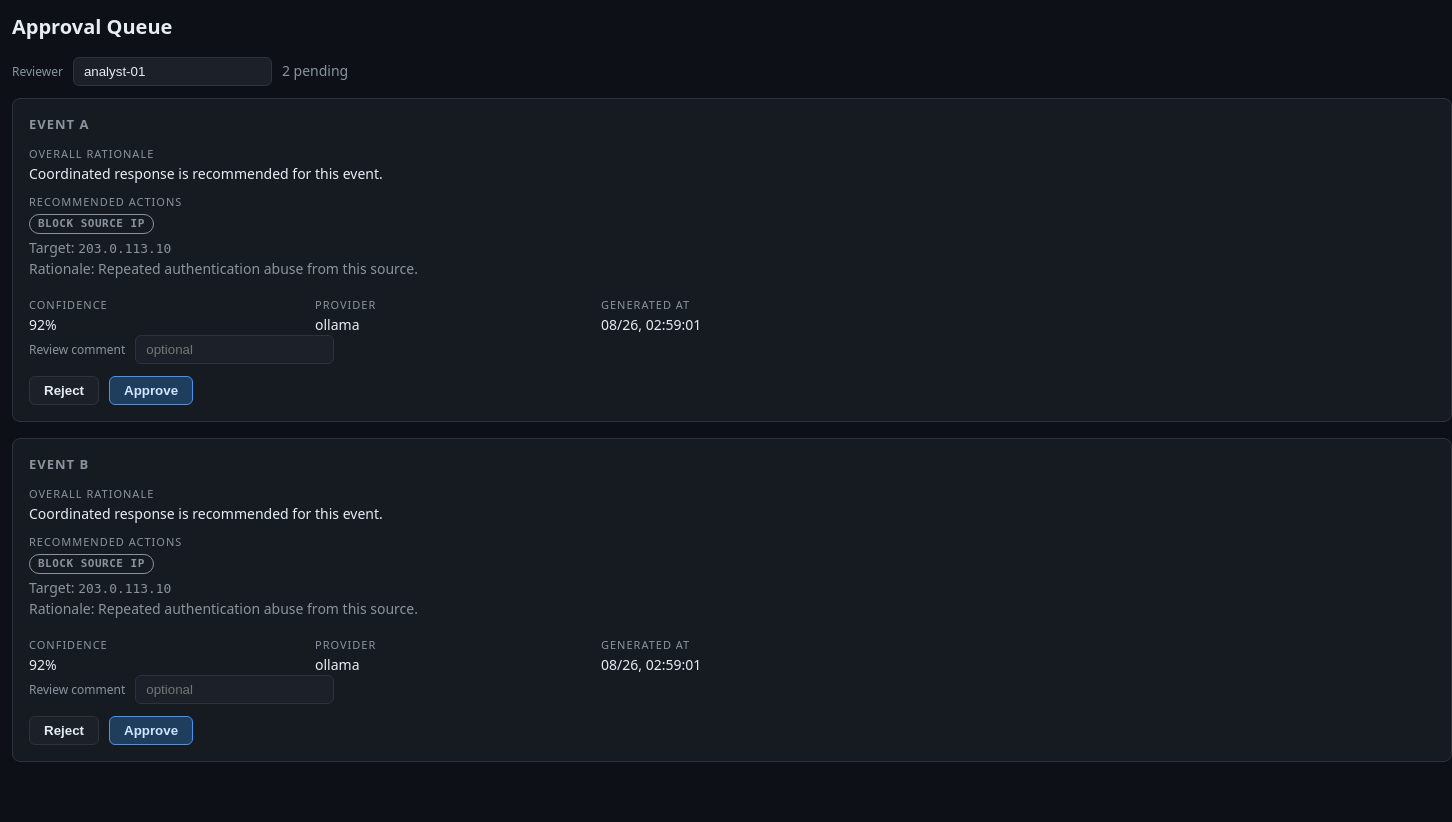
ApprovalQueuePage › 201 removes the item locally without a follow-up GET — count 2 -> 1
The width and height of the screenshot is (1452, 822).
Click the button "Approve" below "Event A": (151,391) left=109, top=376, right=193, bottom=405
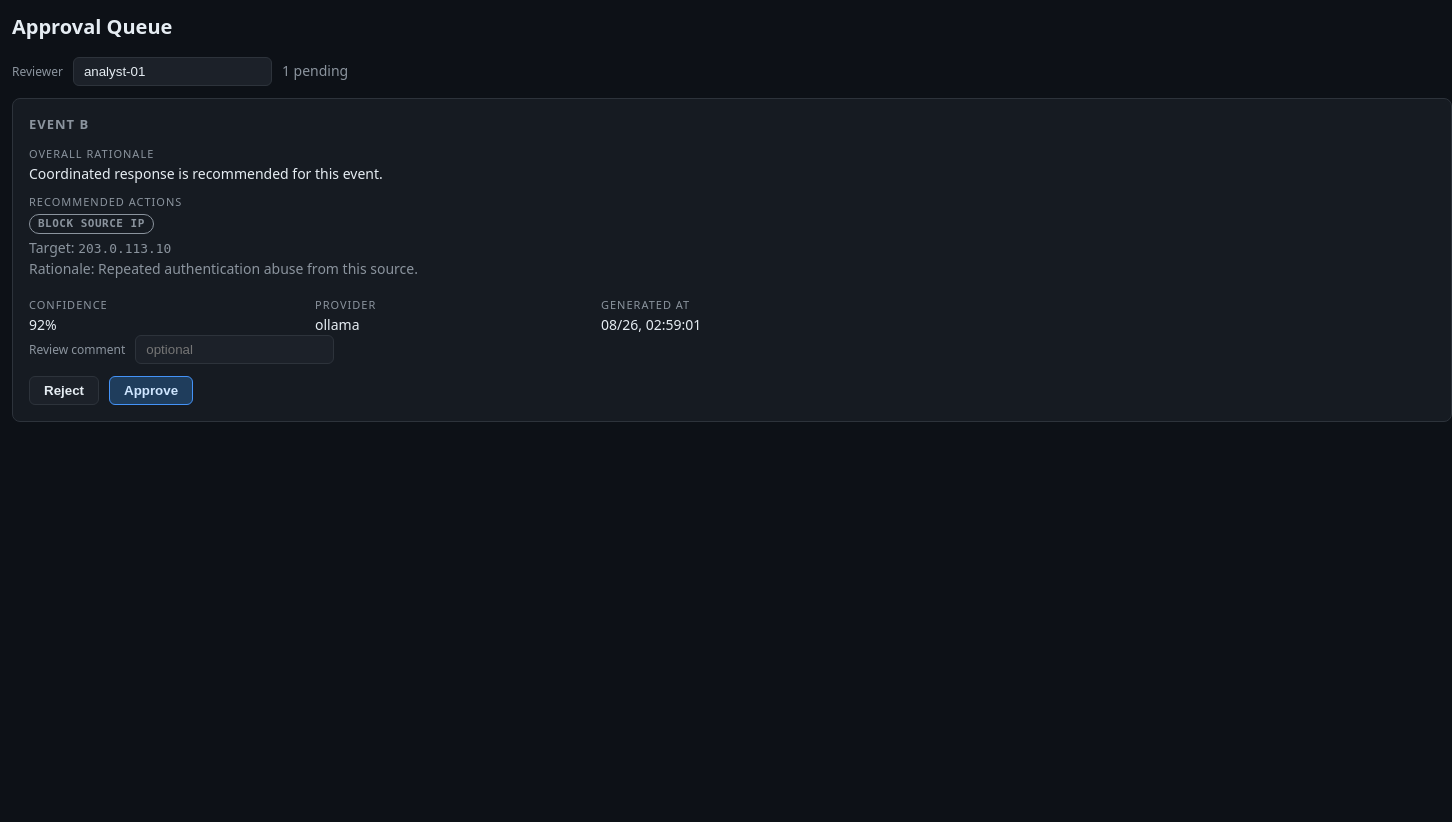
expect the heading "Event B" is shown: met, box left=29, top=115, right=89, bottom=133
expect the text "1 pending" is shown: met, box left=282, top=61, right=348, bottom=82
expect the heading "Event A" is gone: met
